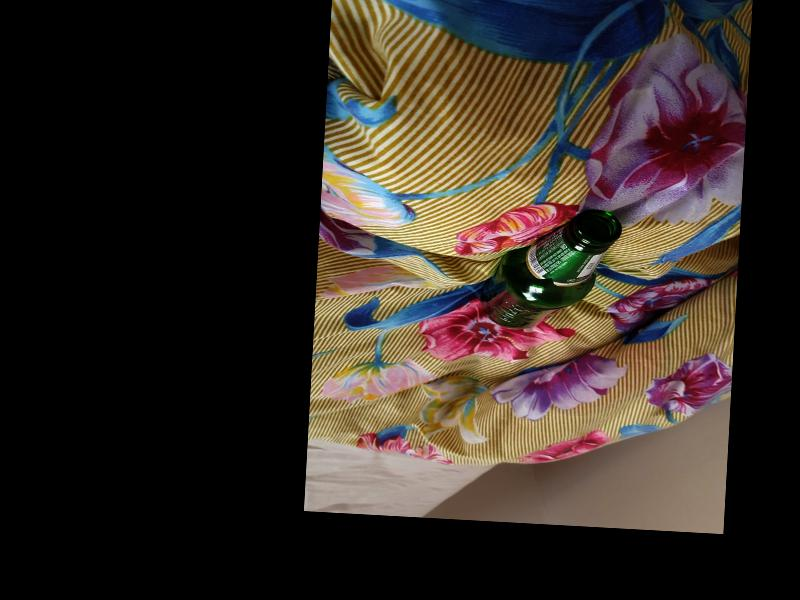Beer: (479, 201, 624, 334)
